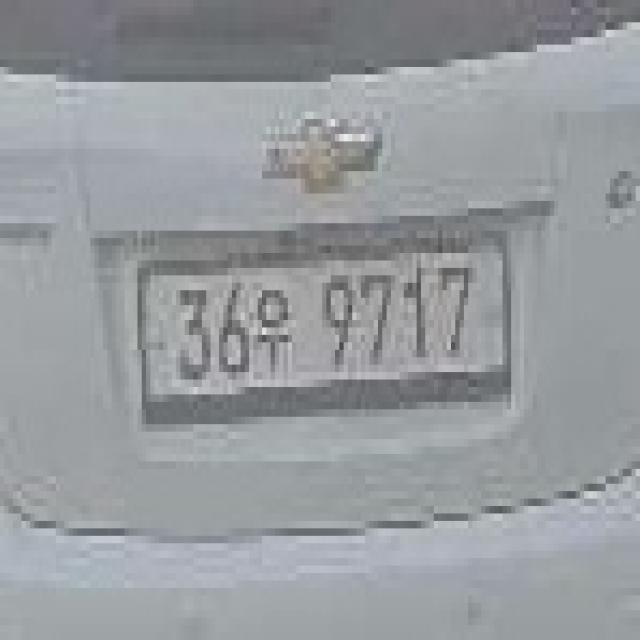1: (404, 260, 429, 364)
3: (172, 283, 210, 387)
6: (215, 283, 253, 379)
7: (356, 268, 399, 365), (438, 261, 481, 357)
9: (322, 268, 357, 372)
license_plate: (138, 230, 516, 417)
u: (258, 283, 292, 379)
